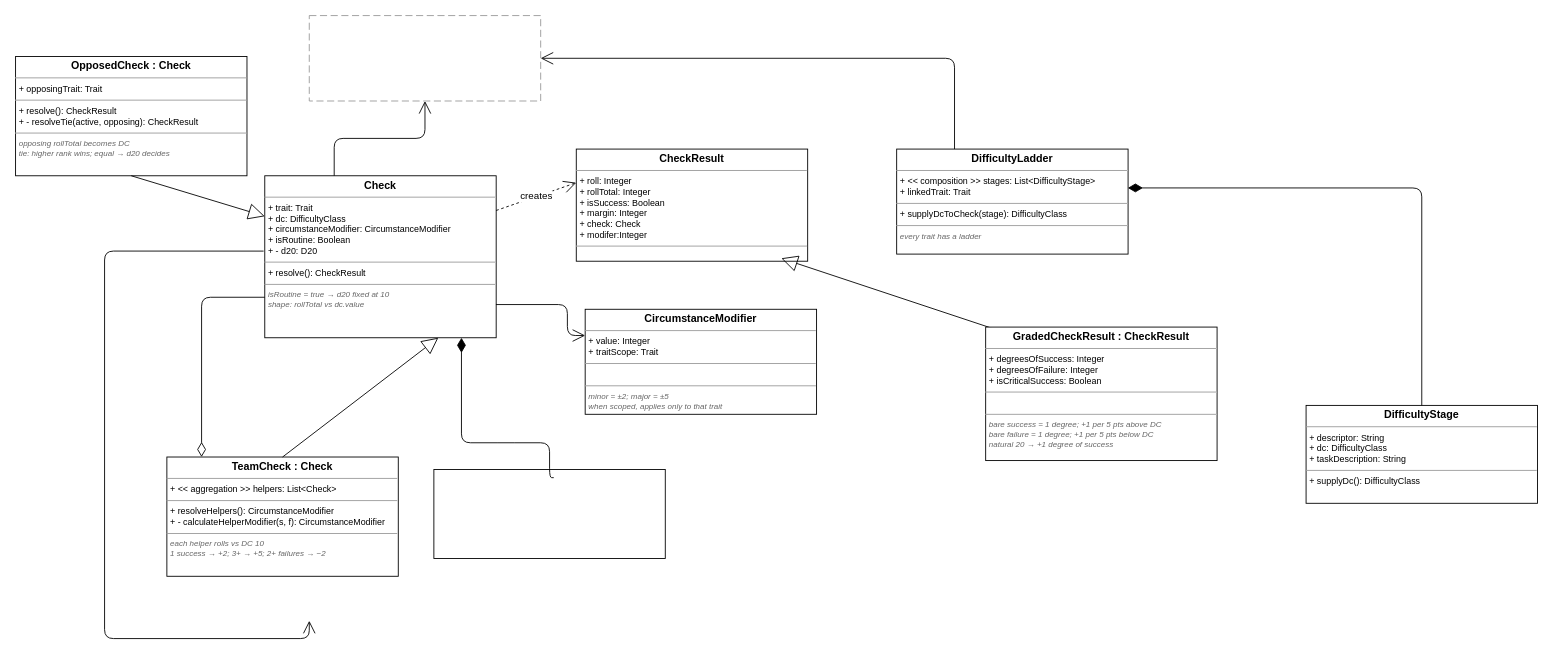
The diagram is 1553 pixels wide and 667 high, and some of its shapes have lost their labels. The centre of each missing label's shape, as x and y in pixels:
"D20 + roll(): Integer result in [1, 20]" belongs at pixel 549 513.
"«from: Trait» Trait + rank: Rank" belongs at pixel 424 58.
